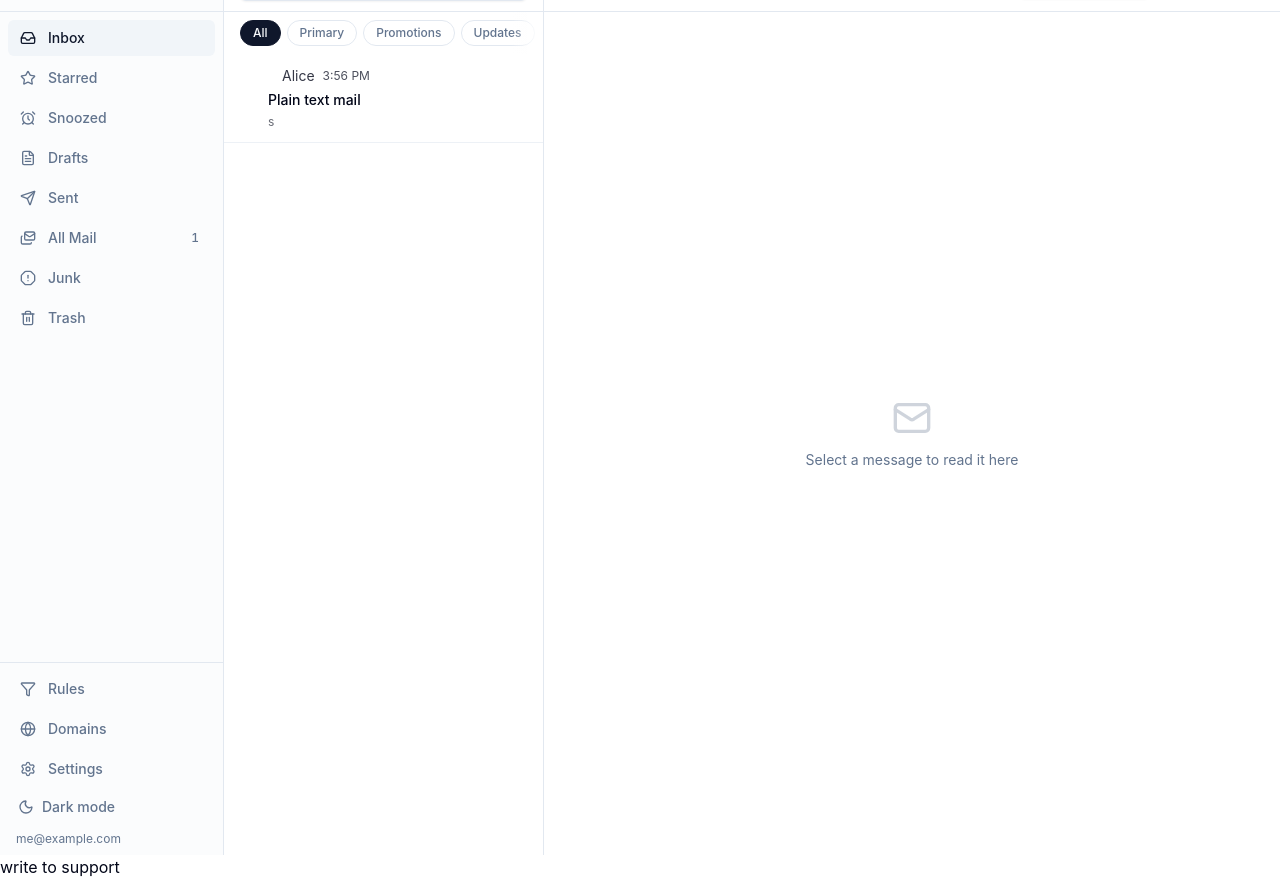
a mailto: link inside received mail › in the app's own markup (chat mode, a plain-text body) opens the composer instead of leaving the app
The image size is (1280, 879).
(page scrolled)
Expected: the text "Plain text mail" is shown, top-left (268, 90), bottom-right (361, 110)
Click the link "write to support" at (60, 867), box top-left (0, 857), bottom-right (120, 877)
(page scrolled)
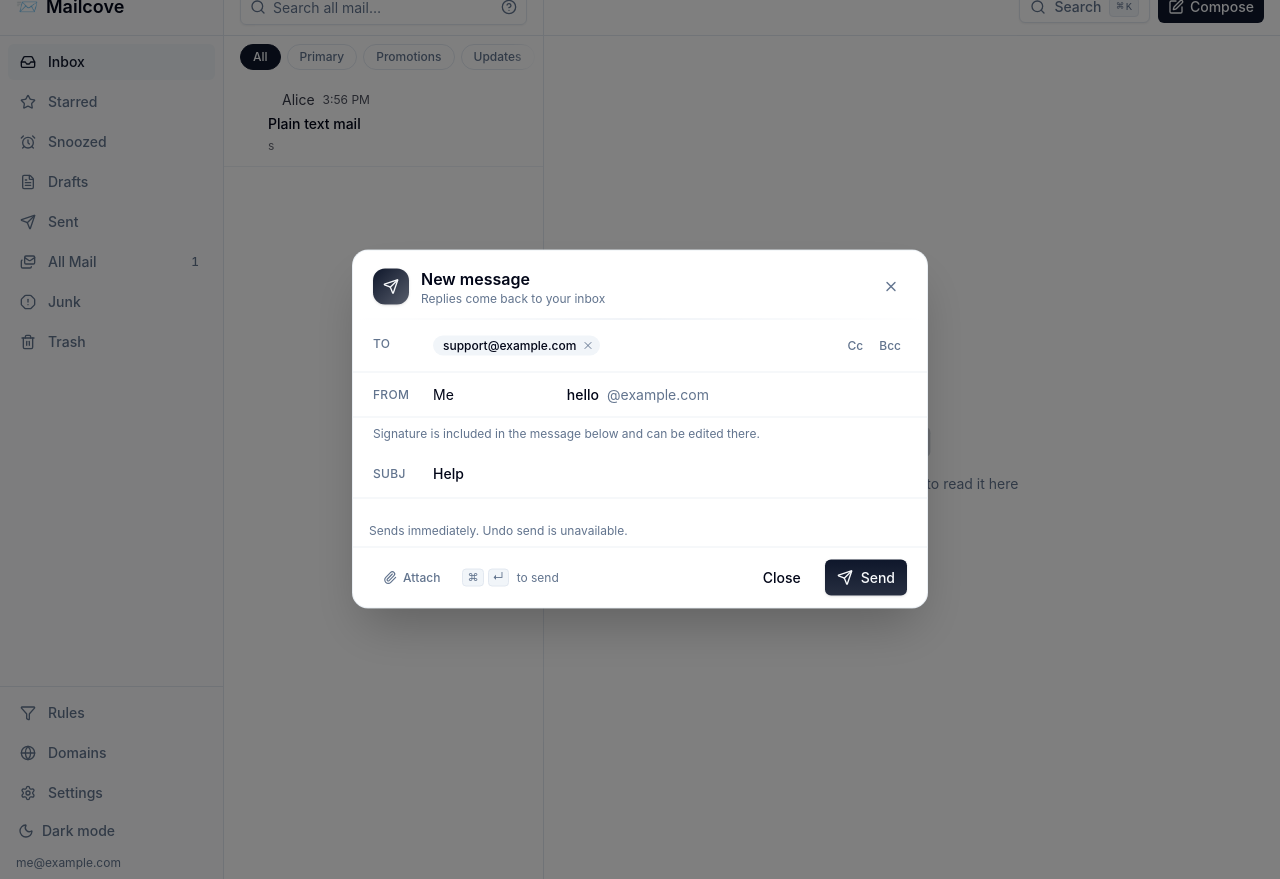
Result: the text "support@example.com" is shown at top-left (443, 338), bottom-right (576, 354)
Result: the field named "Subject" holds "Help" at top-left (433, 462), bottom-right (907, 486)
